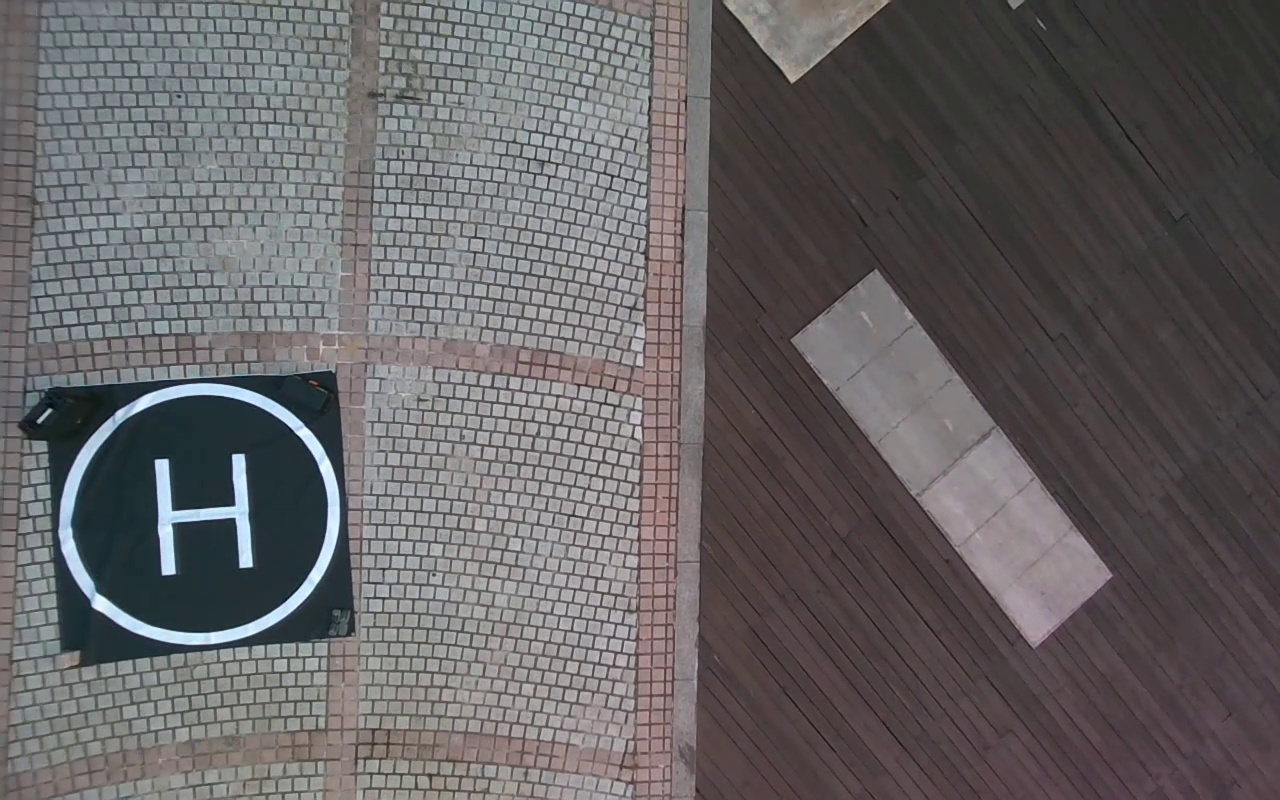H: (152, 451, 252, 575)
heliport: (60, 381, 344, 643)
